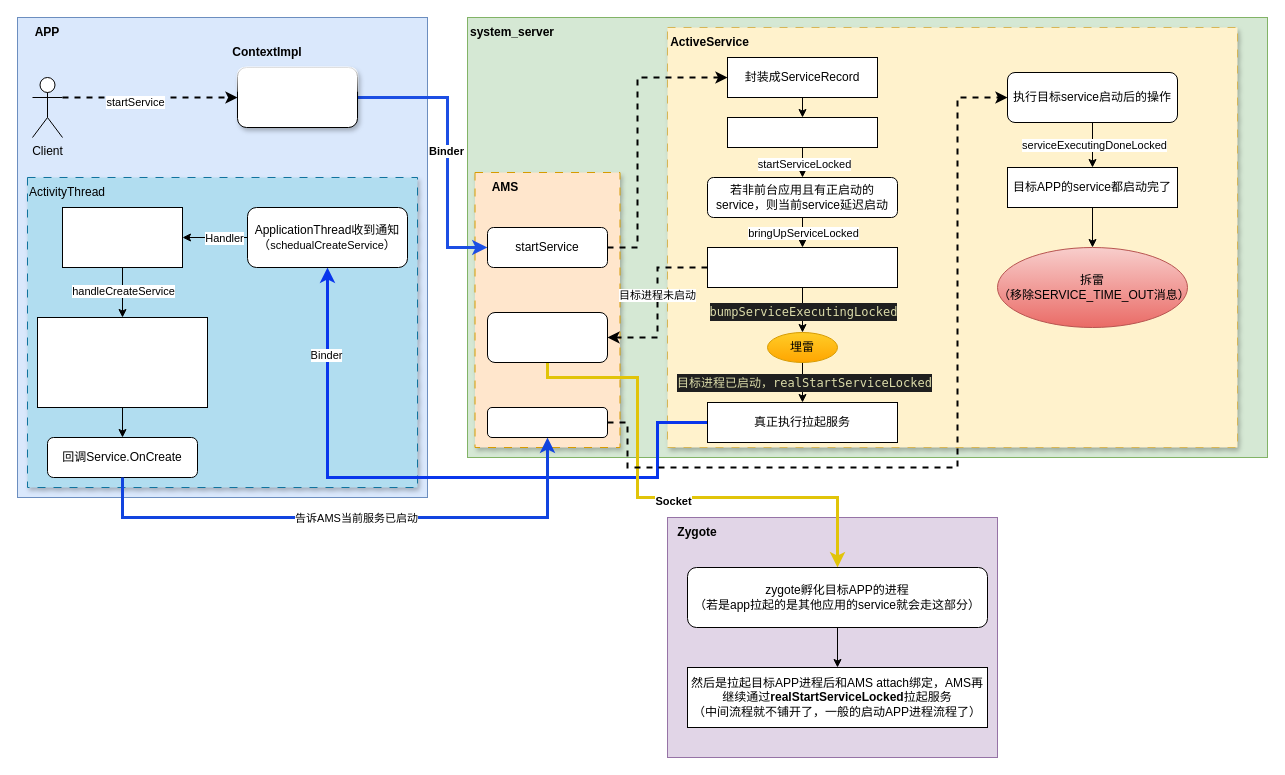
The diagram is 1285 pixels wide and 775 high, and some of its shapes have lost their labels. Here are the shapes that lost their labels. From the top down, the centre of each, then its label:
[298,98]: 中间代理给系统服务执行startService操作
[802,132]: 各种权限校验
[122,237]: 主线程开始执行启动Service
[802,267]: 确认拉起服务
[547,337]: 转交ProcessList 走启动进程留存
[122,362]: 1、反射获取Service对象 2、创建Context 3、给服务的Context添加app的resource 4、Service对象和APP绑定
[547,422]: 转交AS处理
